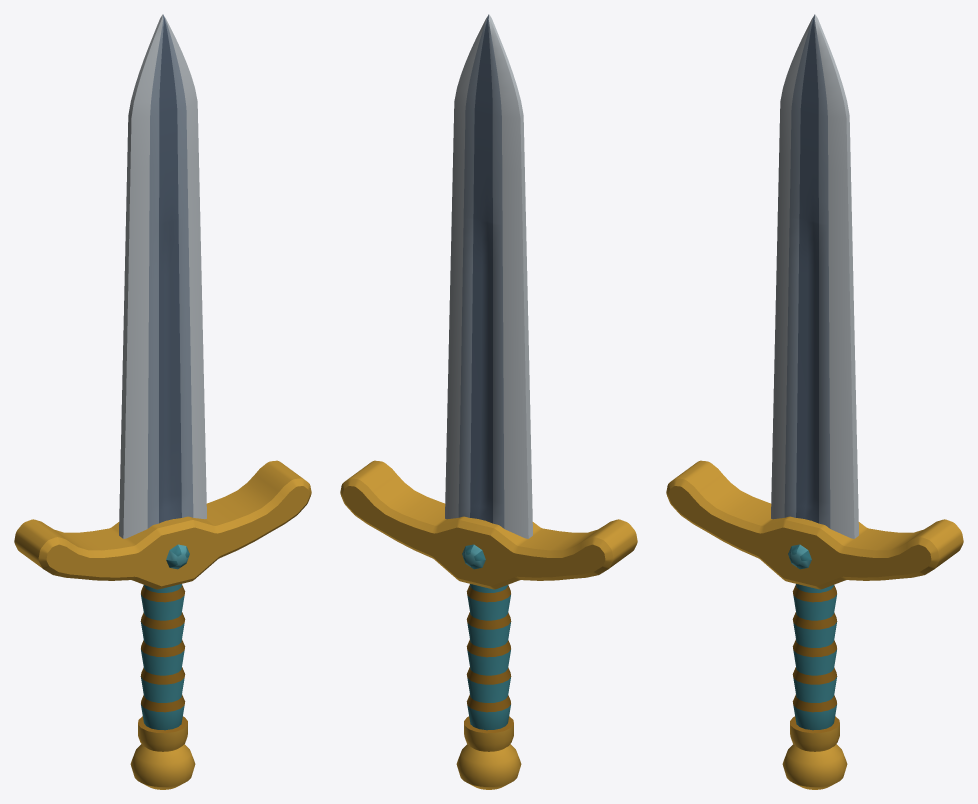
The model's file is Longsword_13.glb.
3 renders of one model, left to right at view 1: azimuth 30°, elevation 25°; view 2: azimuth 150°, elevation 25°; view 3: azimuth 330°, elevation 25°, orthographic.
Visible parts, largest first — view 1: Longsword_13; view 2: Longsword_13; view 3: Longsword_13.
Part boxes in pixels (x1,y1,x2,y2): Longsword_13: (14, 14, 311, 789); Longsword_13: (340, 14, 637, 789); Longsword_13: (666, 14, 963, 789).
Bounding box in the file's own units: 2.45 × 6.6 × 0.5788.
